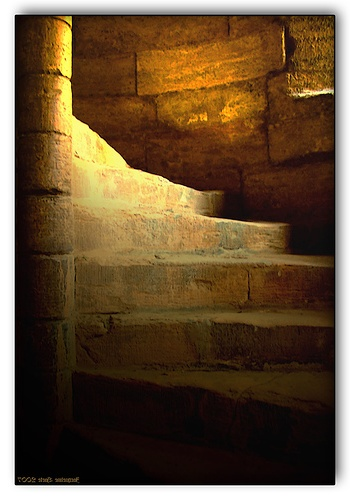stairs_up: (71, 111, 335, 477)
